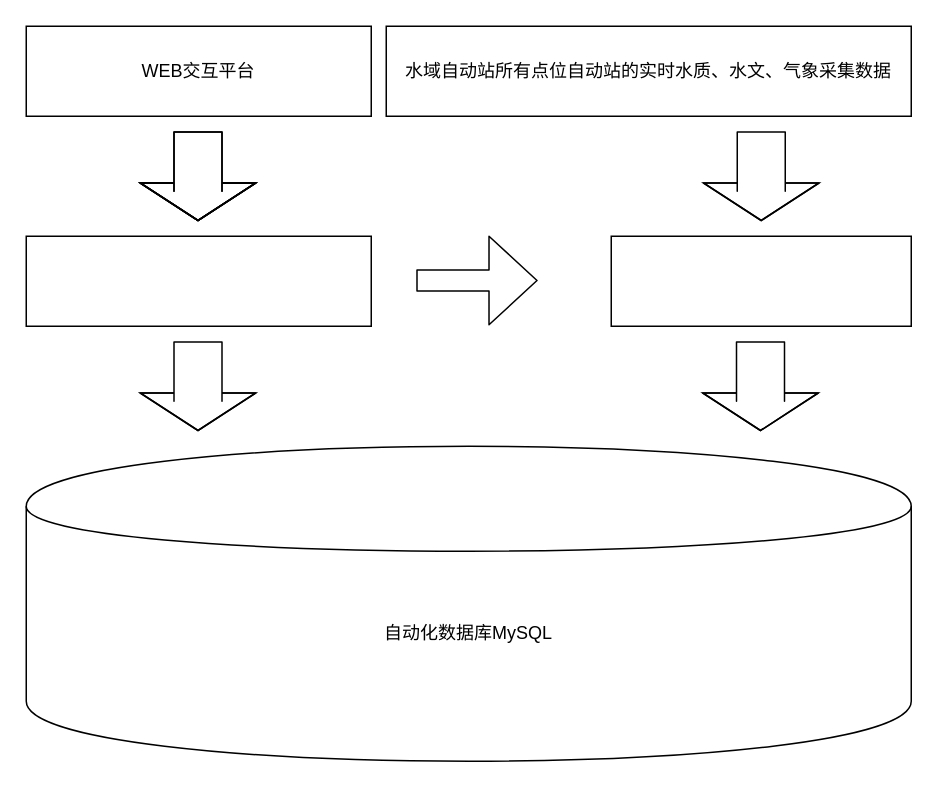
The diagram is 938 pixels wide and 788 high, and some of its shapes have lost their labels. The shapes that lost their labels are listed below. From the top down, each one's box as (x1, y1, x2, y2) in pixels, then its label:
(25, 235, 371, 326): 突发性污染事故模拟预测模型
(610, 235, 911, 326): GIS平台Arcgis
